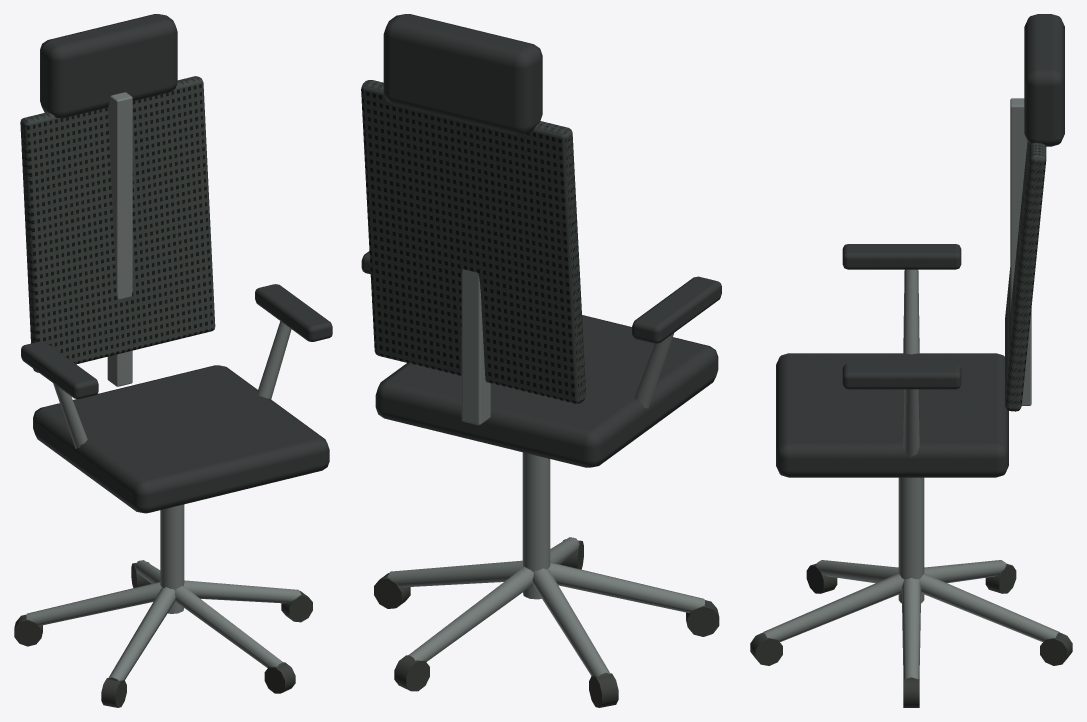
Rendered from jarvfjallet-mobile.glb.
3 renders of one model, left to right at view 1: azimuth 30°, elevation 25°; view 2: azimuth 150°, elevation 25°; view 3: azimuth 270°, elevation 25°, orthographic. The views are drawn at different scales.
Parts seen in each view (by area): view 1: JÄRVFJÄLLET Office chair with armrests; view 2: JÄRVFJÄLLET Office chair with armrests; view 3: JÄRVFJÄLLET Office chair with armrests.
Part boxes in pixels (<box>): JÄRVFJÄLLET Office chair with armrests: <box>14,14,332,707</box>; JÄRVFJÄLLET Office chair with armrests: <box>361,14,721,707</box>; JÄRVFJÄLLET Office chair with armrests: <box>750,14,1072,707</box>.
Size of the model in its own units: 0.68 by 1.4 by 0.68.
4 materials, 3 textured.
